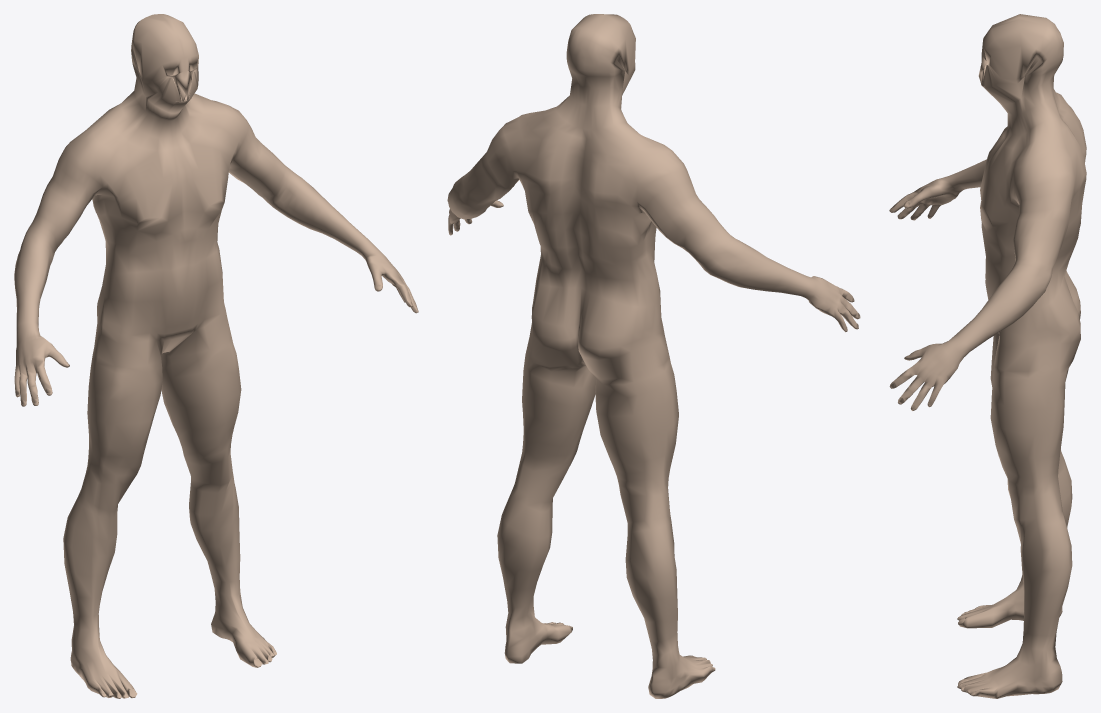
Rendered from CHAR_MainCharacterBase.fbx.
3 views of the same model, side by side, from view 1: azimuth 30°, elevation 25°; view 2: azimuth 150°, elevation 25°; view 3: azimuth 270°, elevation 25° (orthographic). The views are drawn at different scales.
Parts seen in each view (by area): view 1: make_human_characterMesh; view 2: make_human_characterMesh; view 3: make_human_characterMesh.
Part boxes in pixels (x1,y1,x2,y2): make_human_characterMesh: (14,14,418,698); make_human_characterMesh: (447,14,860,698); make_human_characterMesh: (889,14,1086,698).
Size of the model in its own units: 112 by 173 by 48.38.
